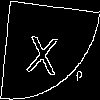X: (25, 25, 60, 76)
